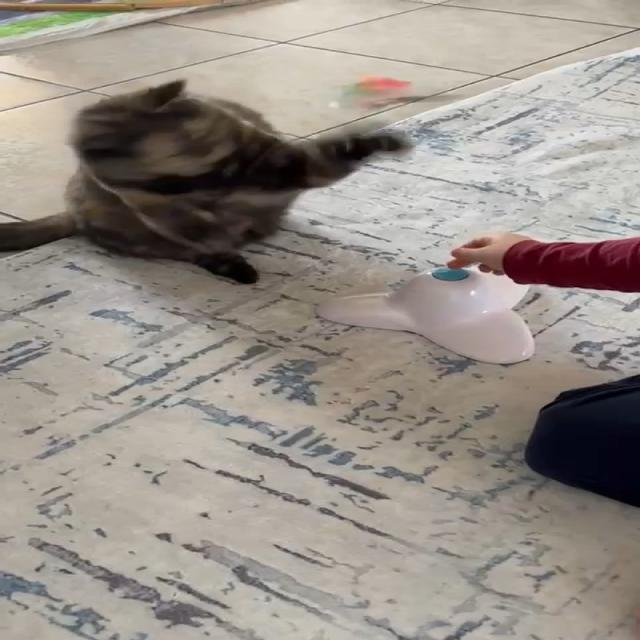authorized: (0, 78, 412, 284)
